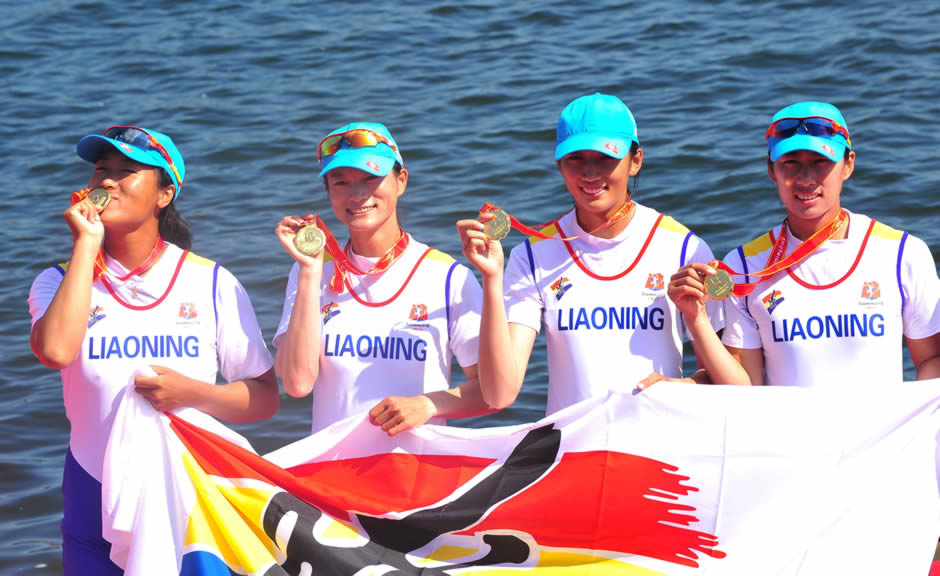face: (83, 149, 152, 226), (558, 139, 628, 211), (777, 142, 841, 216), (331, 159, 387, 225)
